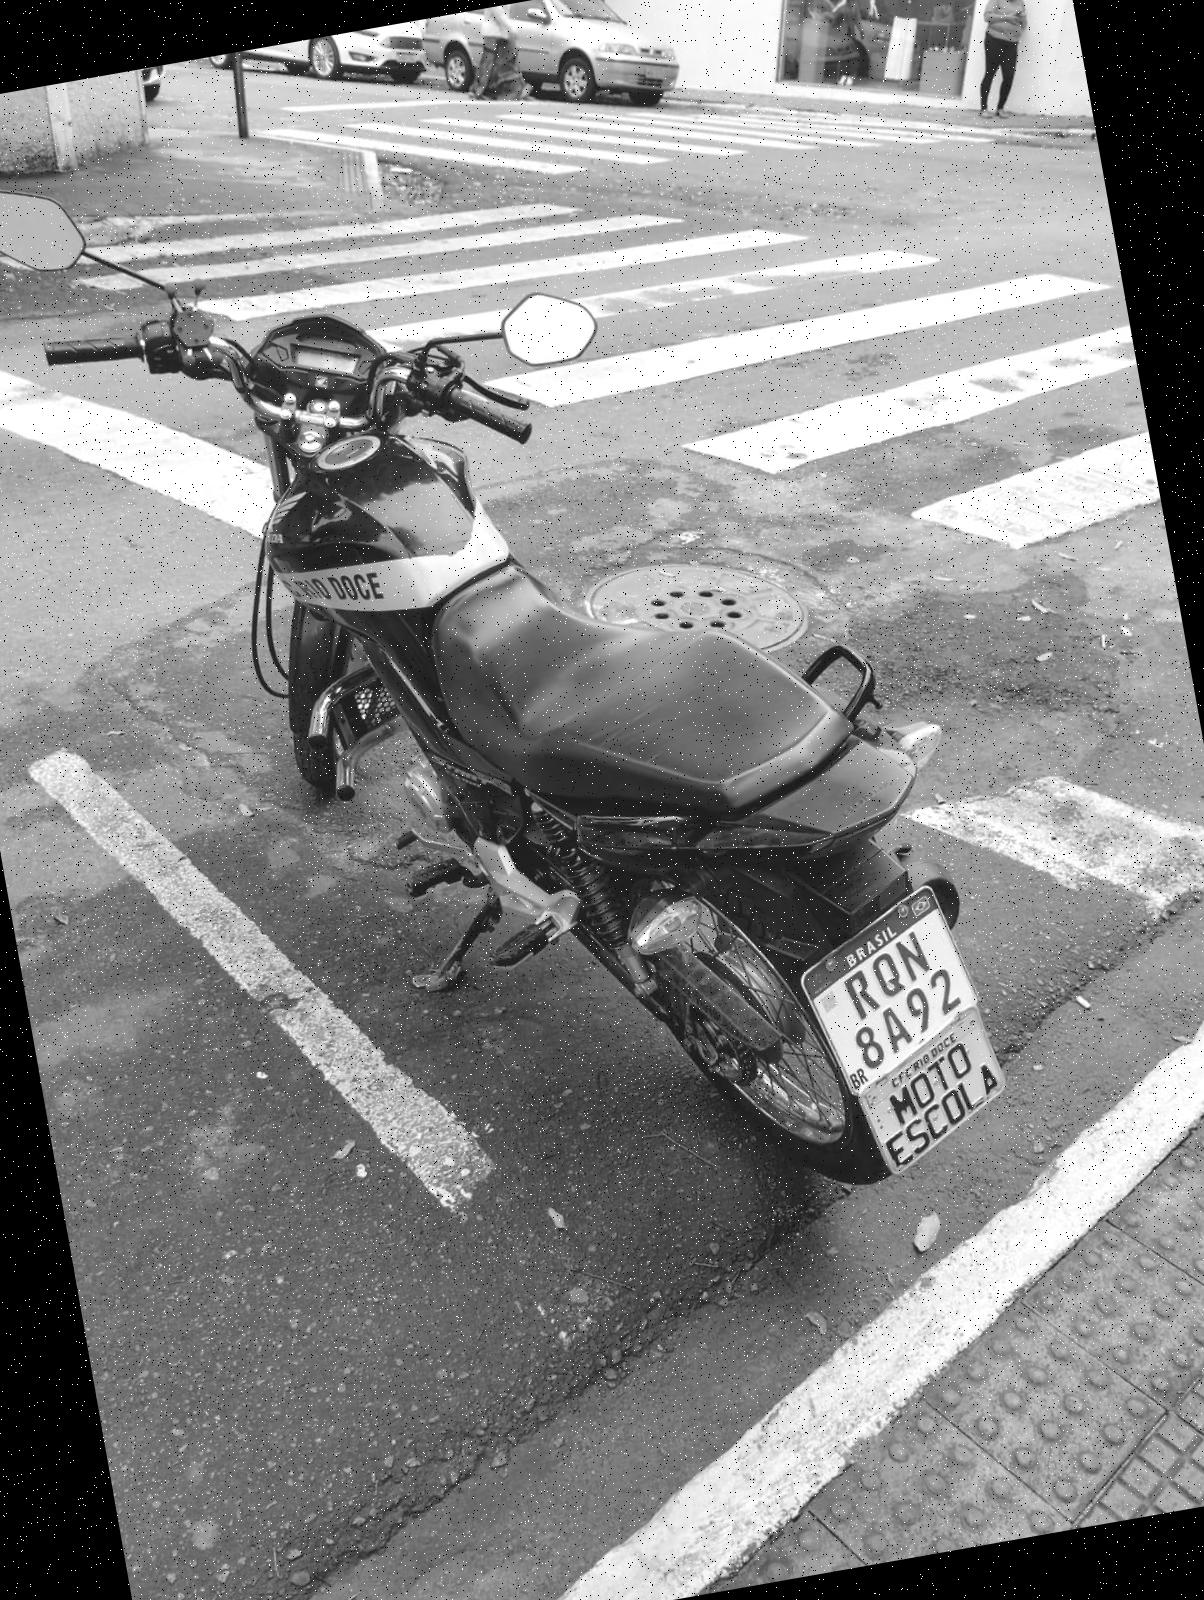placa_mercosul: (802, 891, 976, 1094)
